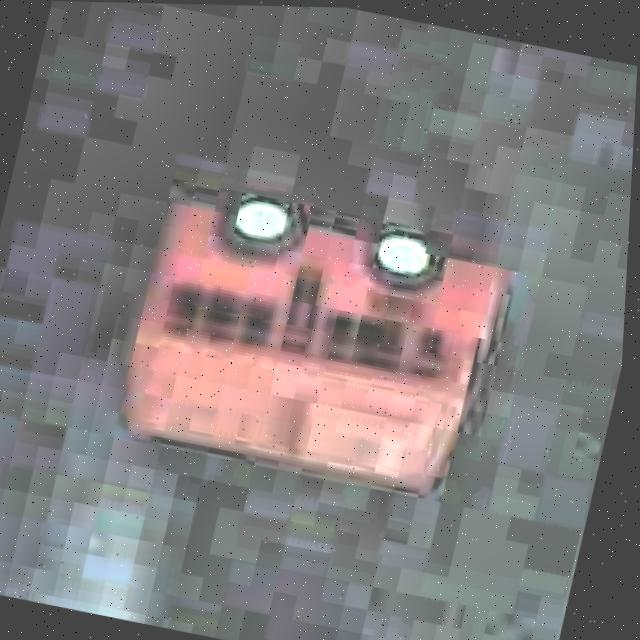bus: (96, 166, 533, 515)
